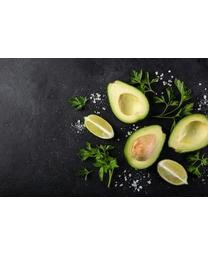avocado: (107, 79, 151, 125), (123, 124, 167, 170), (168, 113, 207, 153)
